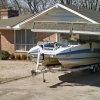Boat: (28, 31, 99, 89)
